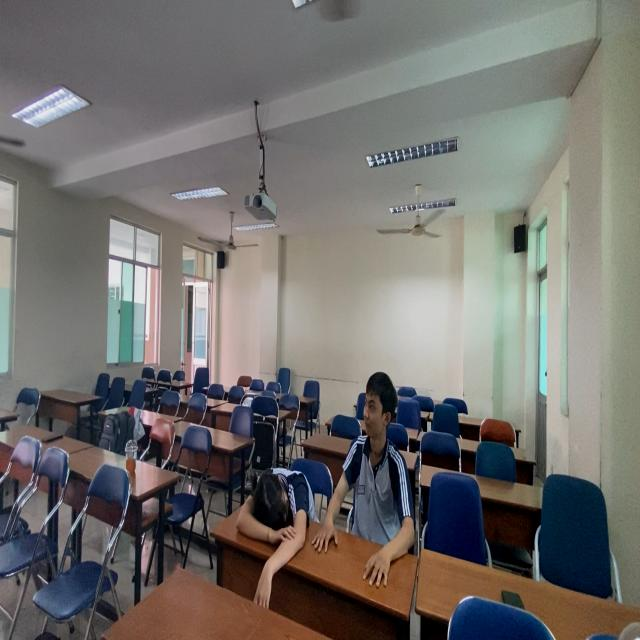sleep: (234, 464, 313, 615)
